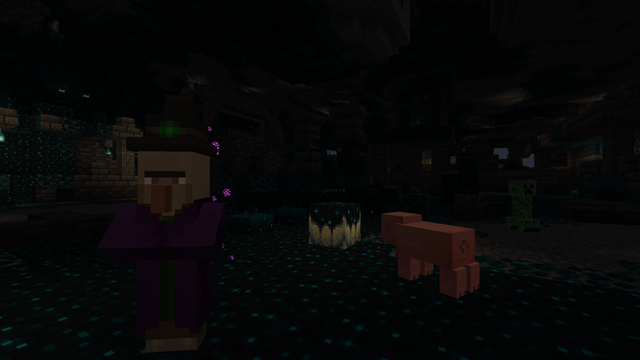cochons: (397, 218, 464, 297)
creepers: (509, 177, 535, 232)
sorcieres: (127, 140, 222, 357)
